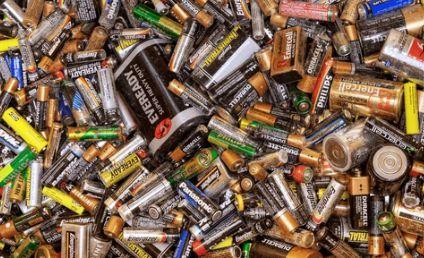battery: (117, 41, 207, 153), (190, 22, 261, 94), (326, 72, 406, 123), (320, 120, 378, 173), (363, 114, 424, 162), (378, 29, 424, 86), (205, 115, 261, 157), (40, 143, 90, 189), (2, 107, 48, 154), (270, 26, 307, 84), (190, 212, 246, 250), (366, 147, 410, 194), (362, 2, 424, 35), (194, 155, 239, 200), (132, 3, 186, 40), (309, 176, 348, 227), (175, 180, 220, 224), (168, 148, 218, 186), (97, 151, 144, 190), (168, 19, 199, 75), (166, 77, 212, 114), (392, 187, 424, 236), (309, 56, 336, 114), (29, 9, 69, 48), (243, 106, 299, 133), (305, 110, 348, 145), (301, 33, 332, 81), (346, 173, 371, 229), (277, 1, 340, 23), (248, 149, 290, 178), (60, 220, 91, 258), (112, 31, 150, 61), (284, 17, 334, 39), (332, 59, 389, 78), (67, 124, 123, 142), (67, 186, 101, 215), (197, 1, 234, 27), (297, 178, 321, 218), (122, 227, 178, 244), (63, 59, 108, 80), (41, 49, 76, 76), (60, 47, 108, 66), (26, 71, 62, 96), (12, 208, 46, 234), (272, 208, 302, 237), (2, 0, 31, 30), (367, 195, 389, 234), (382, 228, 410, 258), (50, 80, 68, 126), (0, 77, 21, 116), (39, 215, 66, 245), (28, 159, 44, 208), (97, 0, 123, 30), (18, 38, 37, 78), (295, 145, 324, 171), (316, 153, 345, 179), (133, 215, 177, 232), (9, 235, 41, 258), (68, 0, 97, 25), (7, 170, 27, 203), (85, 26, 110, 52), (107, 239, 140, 258), (171, 229, 192, 258), (250, 2, 265, 41), (89, 234, 113, 258), (9, 53, 25, 89), (103, 214, 126, 239), (331, 29, 351, 56), (0, 179, 15, 214), (251, 0, 279, 18), (291, 164, 315, 184), (0, 55, 14, 89), (0, 218, 20, 241), (117, 27, 154, 39), (243, 206, 269, 223), (97, 141, 118, 162), (367, 234, 385, 256), (269, 12, 290, 30), (312, 175, 334, 192), (191, 239, 210, 258), (0, 37, 20, 54), (82, 144, 100, 162), (362, 51, 381, 66), (42, 1, 56, 18)
